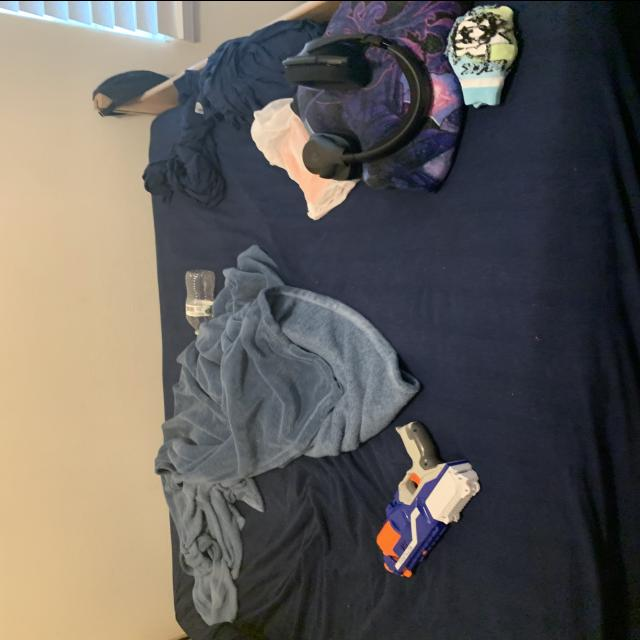nerf-maverik: (366, 414, 496, 590)
